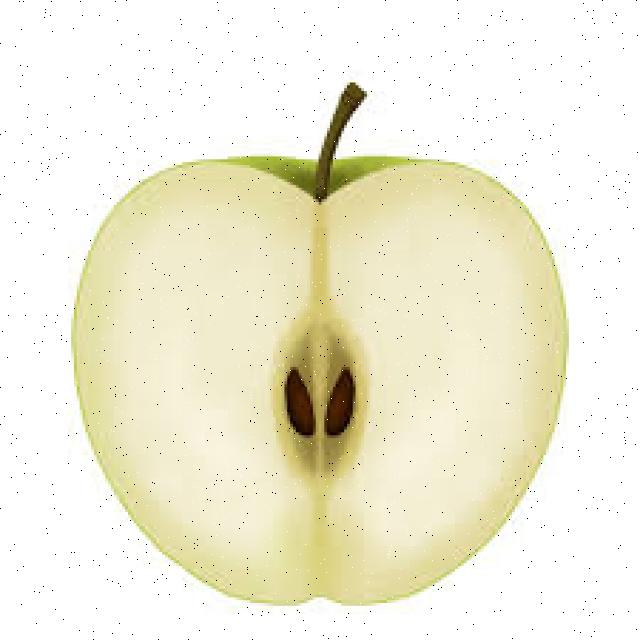Apple: (68, 149, 570, 606)
